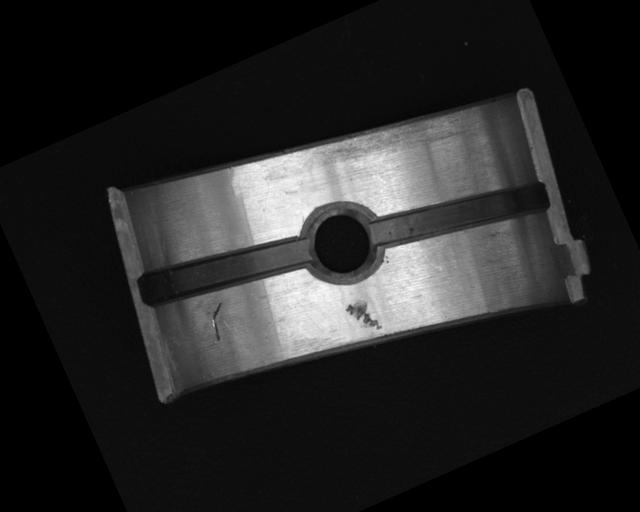bruise: (344, 294, 383, 338)
gap: (367, 152, 553, 276), (135, 209, 315, 329)
hole: (292, 192, 392, 292)
nick: (202, 301, 235, 342)
scratch: (310, 89, 466, 192)
